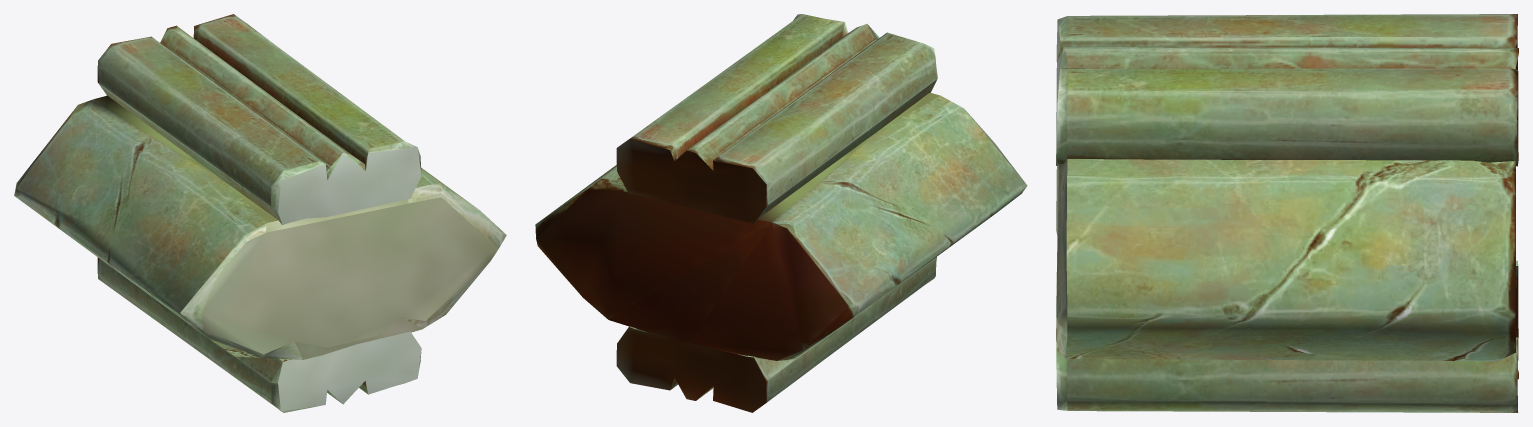
Rendered from Ruins_Collumn_4M_A.fbx.
3 views of the same model, side by side, from view 1: azimuth 30°, elevation 25°; view 2: azimuth 150°, elevation 25°; view 3: azimuth 270°, elevation 25° (orthographic). The views are drawn at different scales.
Visible parts, largest first — view 1: Ruins_Collumn_4M_A; view 2: Ruins_Collumn_4M_A; view 3: Ruins_Collumn_4M_A.
Part boxes in pixels (x1,y1,x2,y2): Ruins_Collumn_4M_A: (14, 14, 506, 412); Ruins_Collumn_4M_A: (535, 14, 1027, 412); Ruins_Collumn_4M_A: (1056, 14, 1518, 412).
Size of the model in its own units: 431 by 317 by 404.
